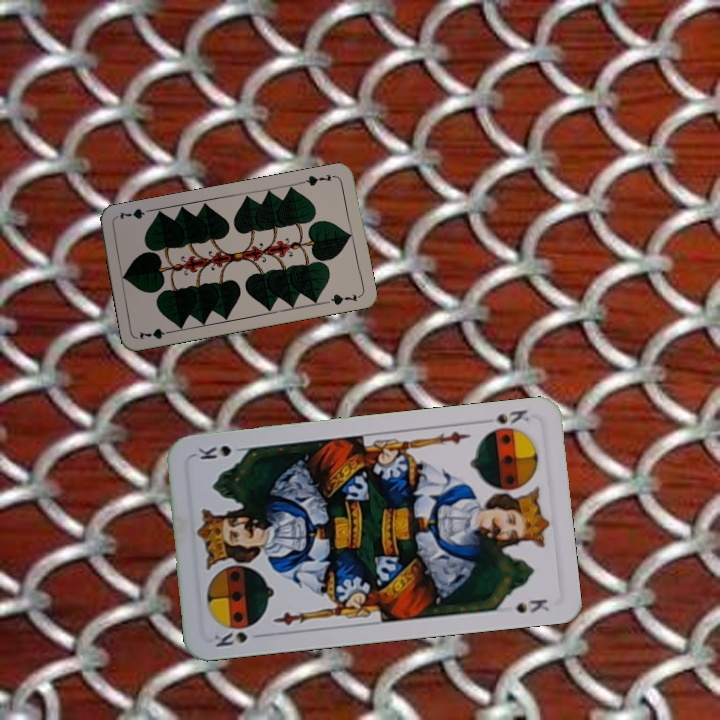G7: (135, 324, 176, 342), (298, 170, 339, 188)
SK: (477, 405, 532, 427), (210, 628, 250, 650)
